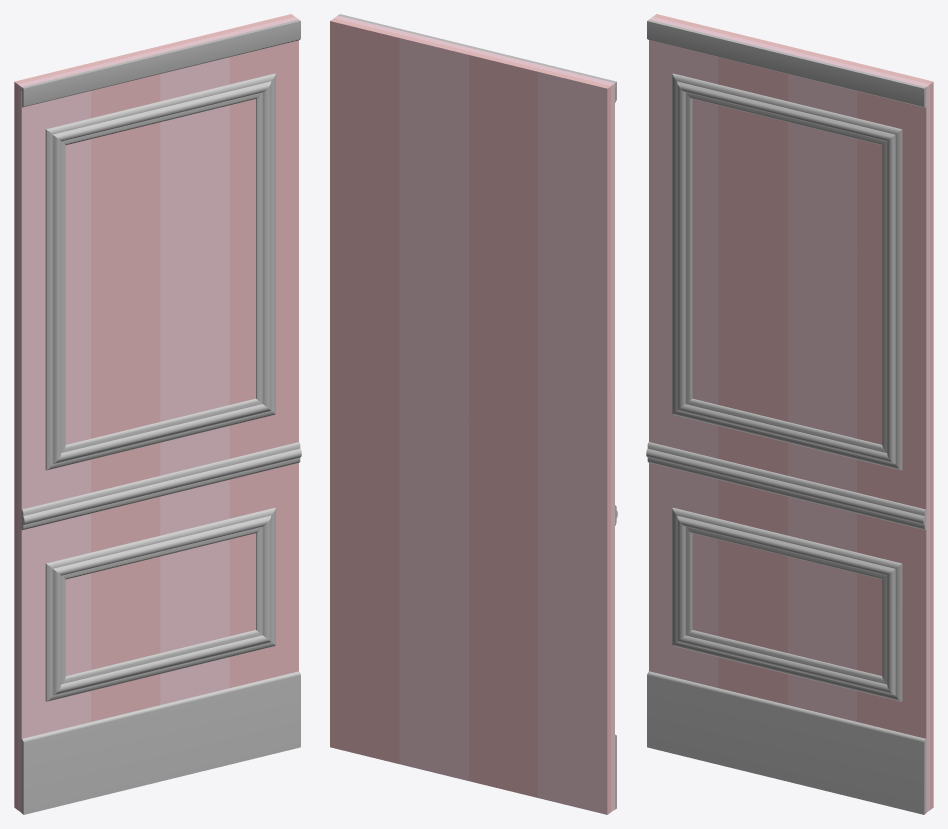
Rendered from Wall Interior Box Trim.fbx.
3 views of the same model, side by side, from view 1: azimuth 30°, elevation 25°; view 2: azimuth 150°, elevation 25°; view 3: azimuth 330°, elevation 25° (orthographic).
Parts seen in each view (by area): view 1: Wall_Interior_Box_Trim; view 2: Wall_Interior_Box_Trim; view 3: Wall_Interior_Box_Trim.
Boxes of the visible parts, x1=… form: Wall_Interior_Box_Trim: x1=14, y1=14, x2=301, y2=814; Wall_Interior_Box_Trim: x1=330, y1=14, x2=617, y2=814; Wall_Interior_Box_Trim: x1=646, y1=14, x2=933, y2=814.
Size of the model in its own units: 1 by 2.5 by 0.0649.
